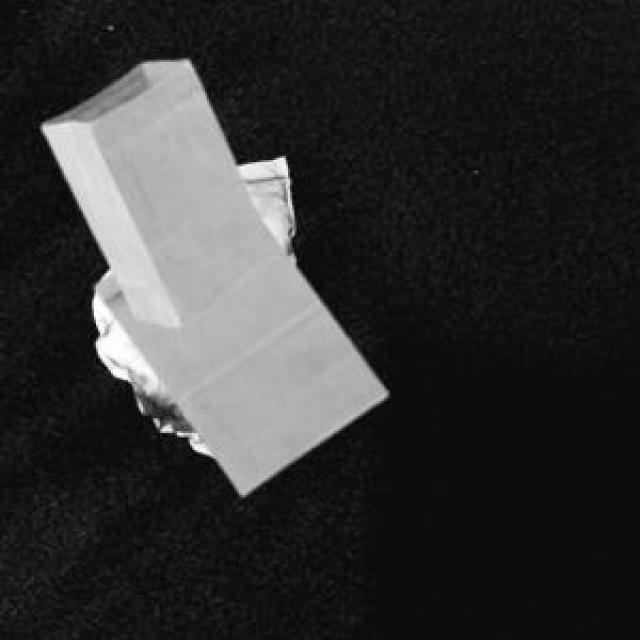paper: (92, 216, 382, 491), (38, 56, 269, 322)
